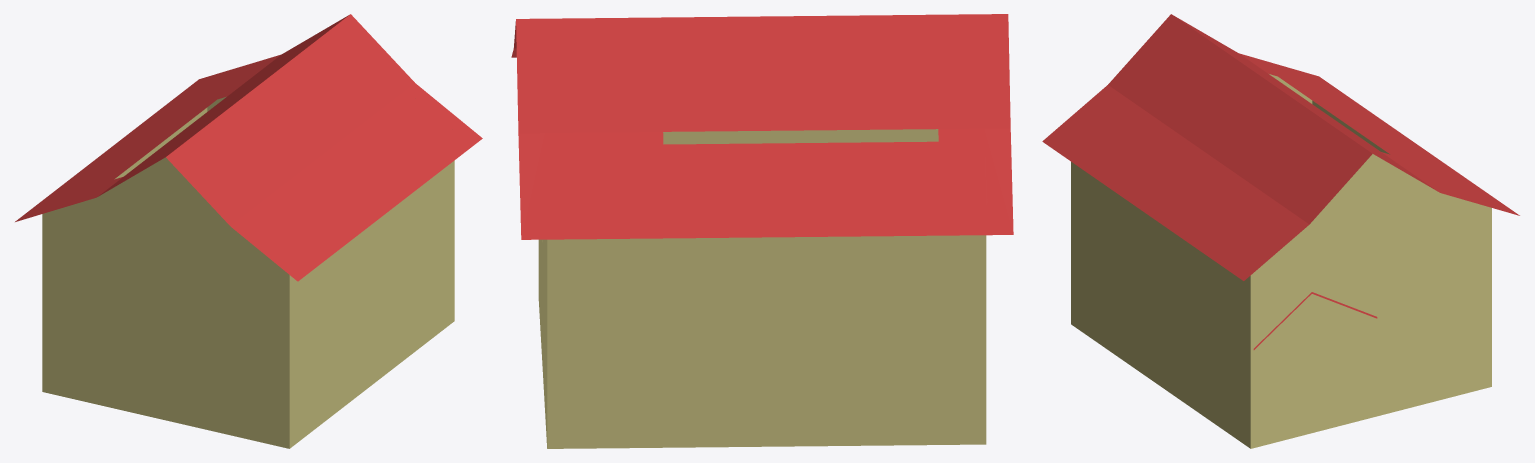
3 views of the same model, side by side, from view 1: azimuth 30°, elevation 25°; view 2: azimuth 150°, elevation 25°; view 3: azimuth 270°, elevation 25° (orthographic). The views are drawn at different scales.
Bounding box in the file's own units: 23.91 × 22.9 × 14.47.
